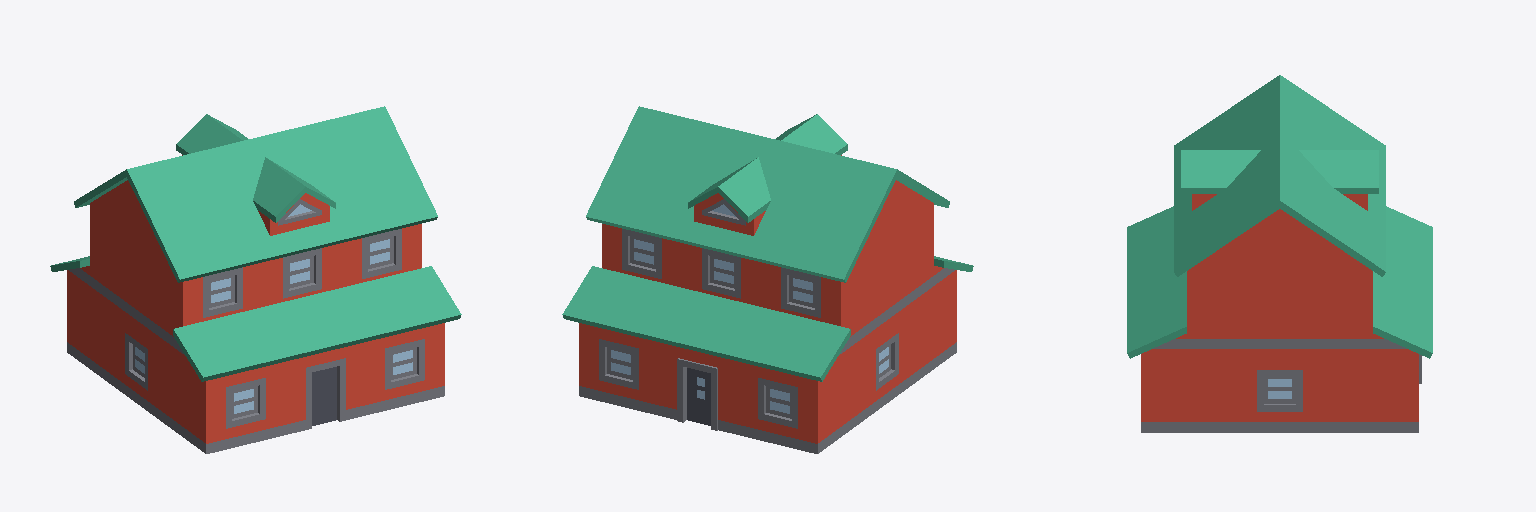
The model's file is city_house_c.obj.
The picture shows the model from 3 angles: view 1: azimuth 30°, elevation 25°; view 2: azimuth 150°, elevation 25°; view 3: azimuth 270°, elevation 25°; orthographic projection.
Visible parts, largest first — view 1: mergedBlocks; view 2: mergedBlocks; view 3: mergedBlocks.
Part boxes in pixels (x1,y1,x2,y2): mergedBlocks: (50,106,461,453); mergedBlocks: (562,106,973,453); mergedBlocks: (1127,75,1432,432).
Size of the model in its own units: 0.936 by 0.819 by 0.9596.